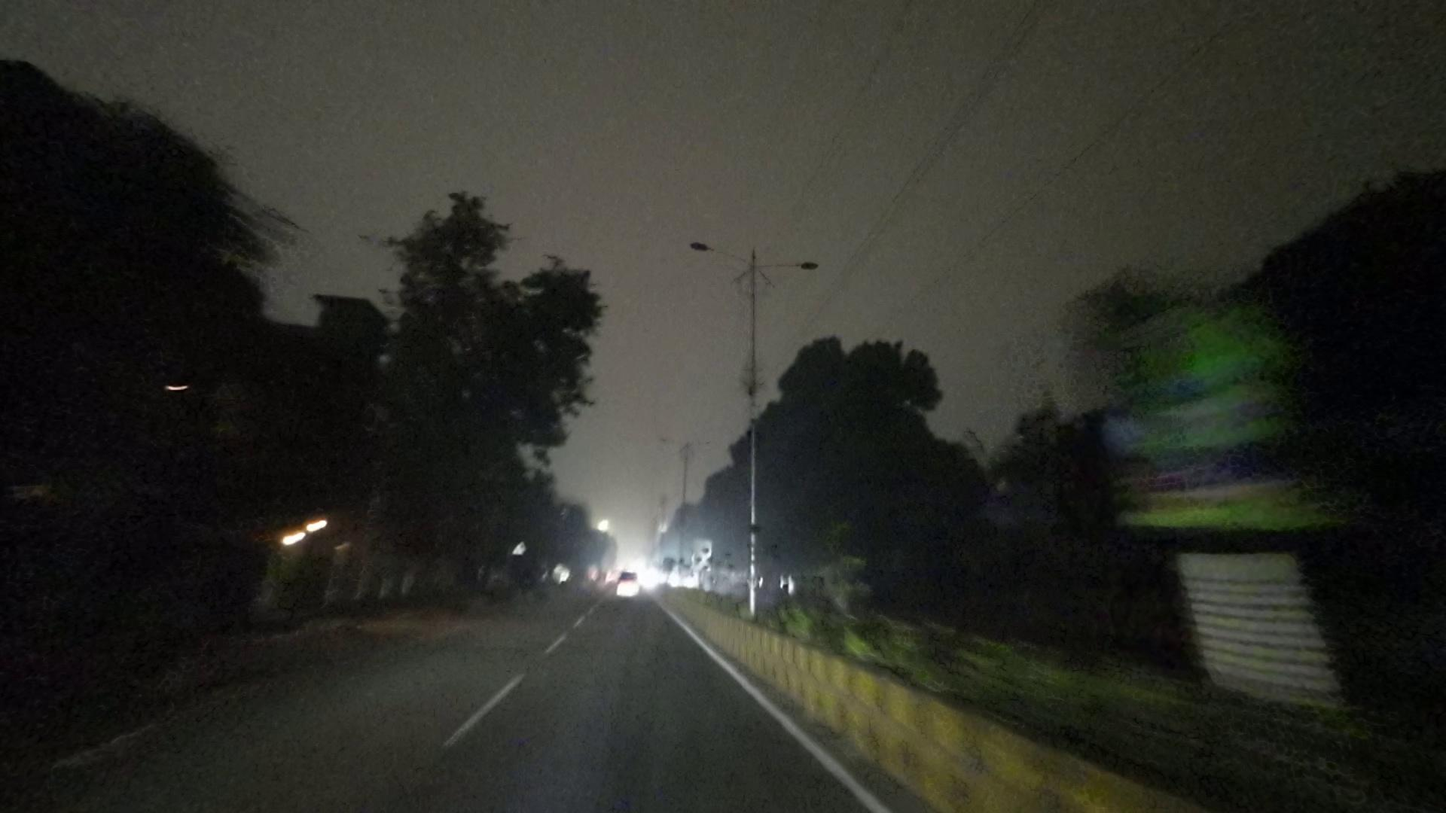streetlight: (690, 239, 750, 266), (758, 256, 820, 275)
